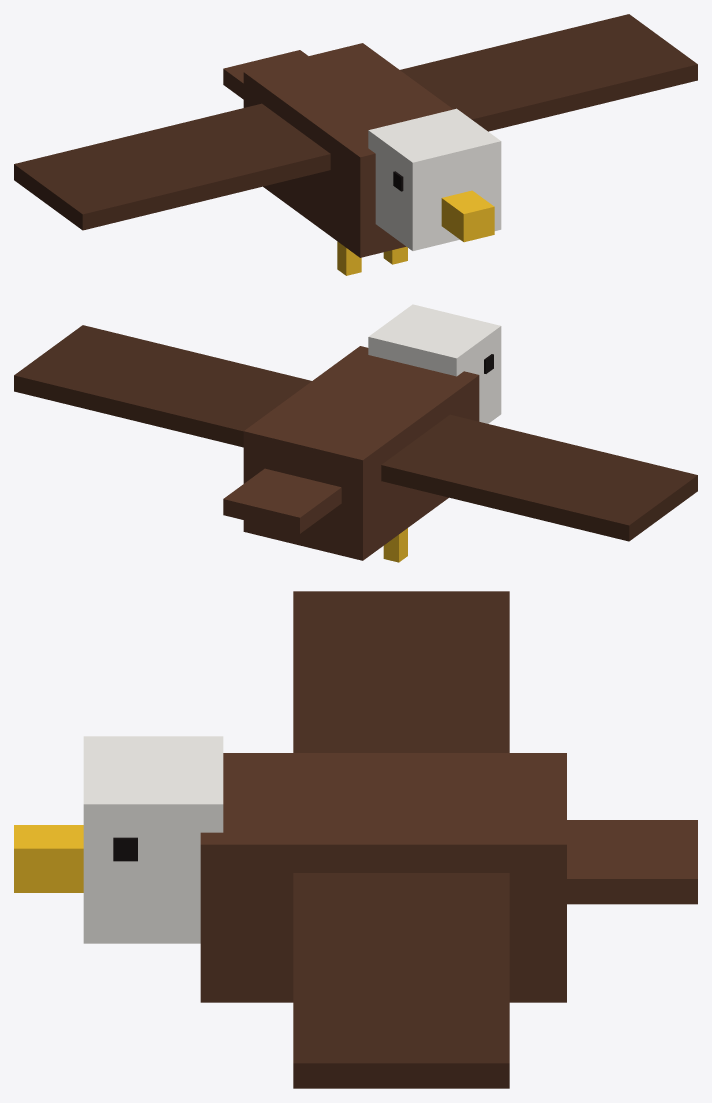
The model's file is eagle.obj.
3 views of the same model, one above another, from view 1: azimuth 30°, elevation 25°; view 2: azimuth 150°, elevation 25°; view 3: azimuth 270°, elevation 25° (orthographic). The views are drawn at different scales.
Bounding box in the file's own units: 3.2 × 0.87 × 1.96.
